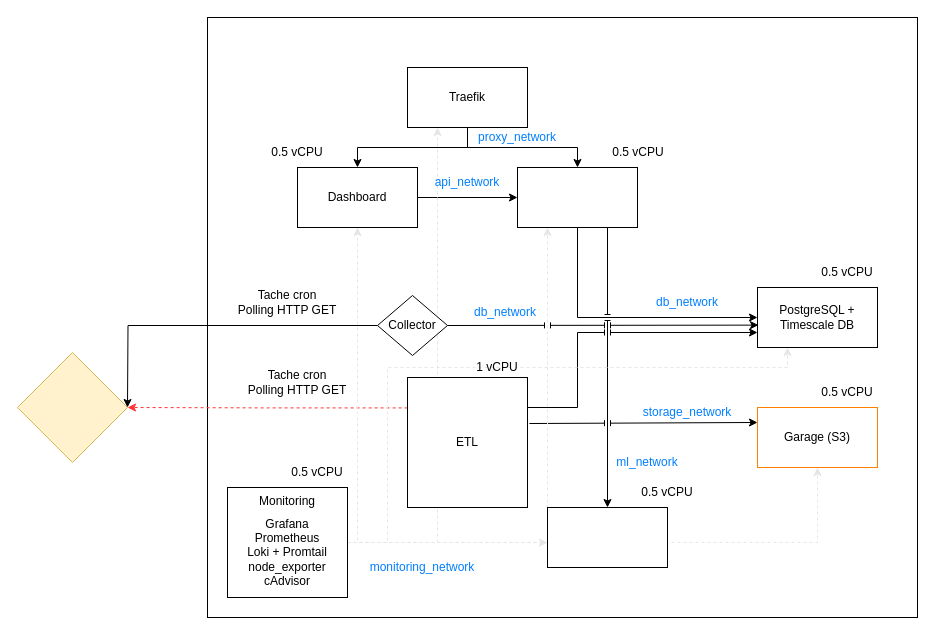
The diagram is 935 pixels wide and 635 high, and some of its shapes have lost their labels. Each missing label, with the centre of its shape:
API: point 577,197
API MOCK: point 72,407
Predict: point 607,537
